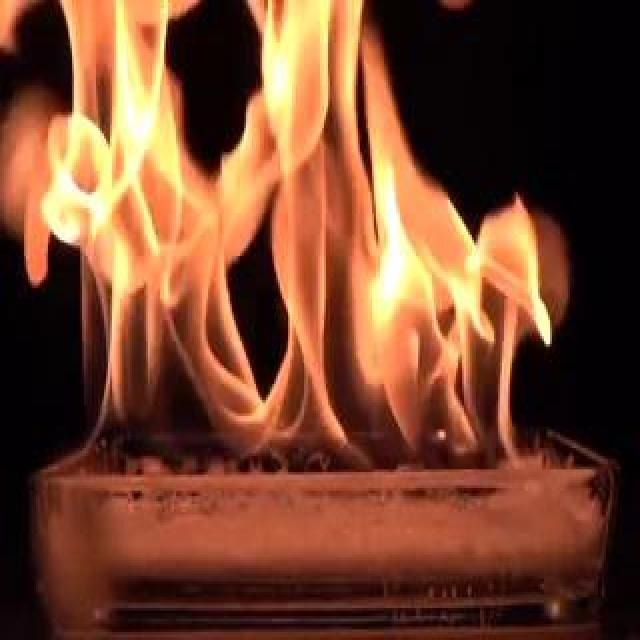Fire: (62, 2, 562, 482)
